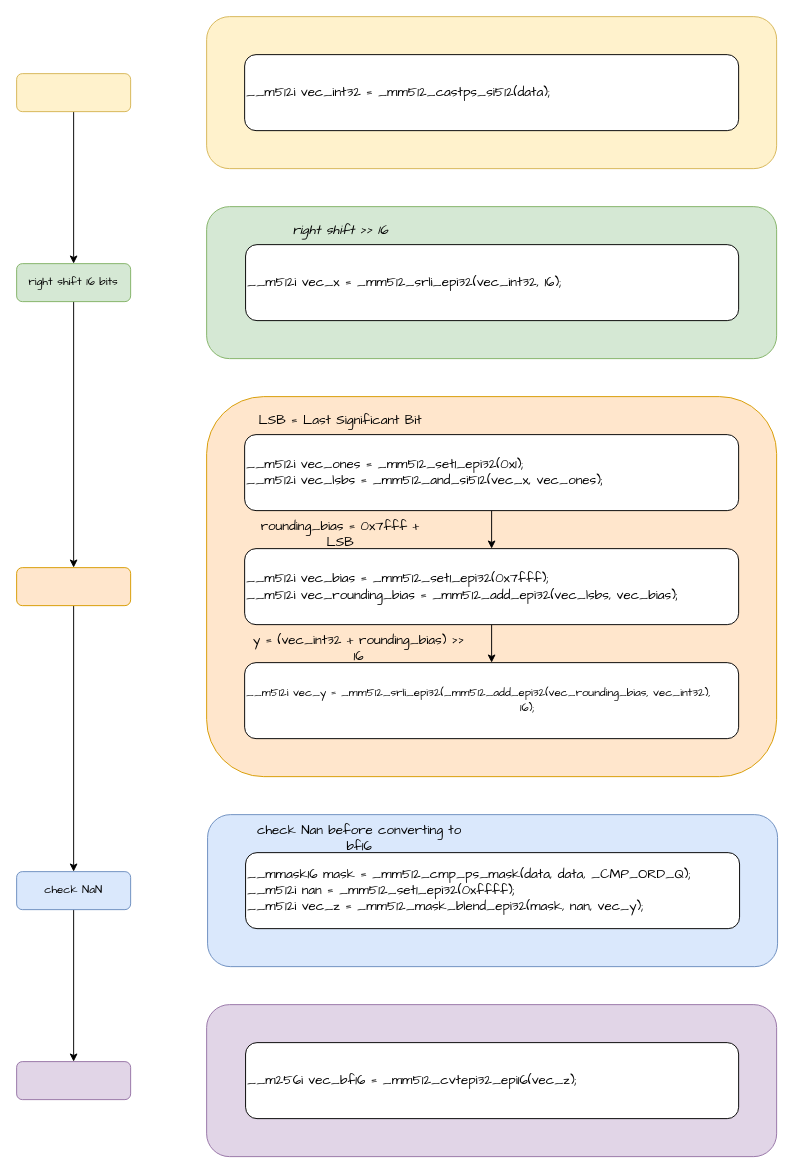
Image size: 794x1173. Some labels were removed from this diagram. Here are the shapes that lost their labels. From the top down, the centre of each, then its label:
(73,92): cast float to integer
(73,586): do rounding
(73,1080): cast 32bit to 16bit
